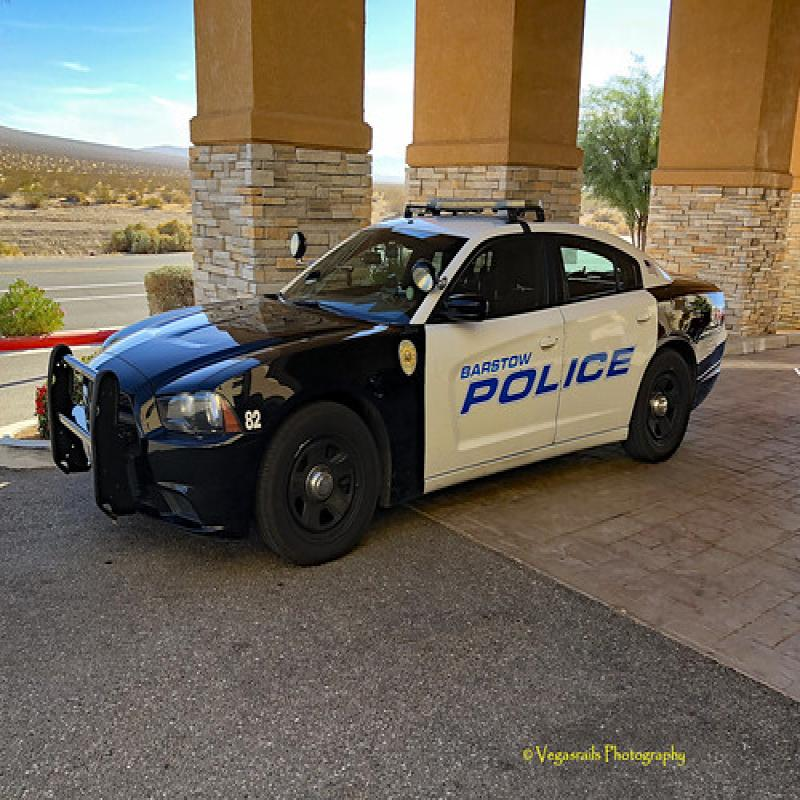AmbulanceSiren: (406, 193, 536, 225)
